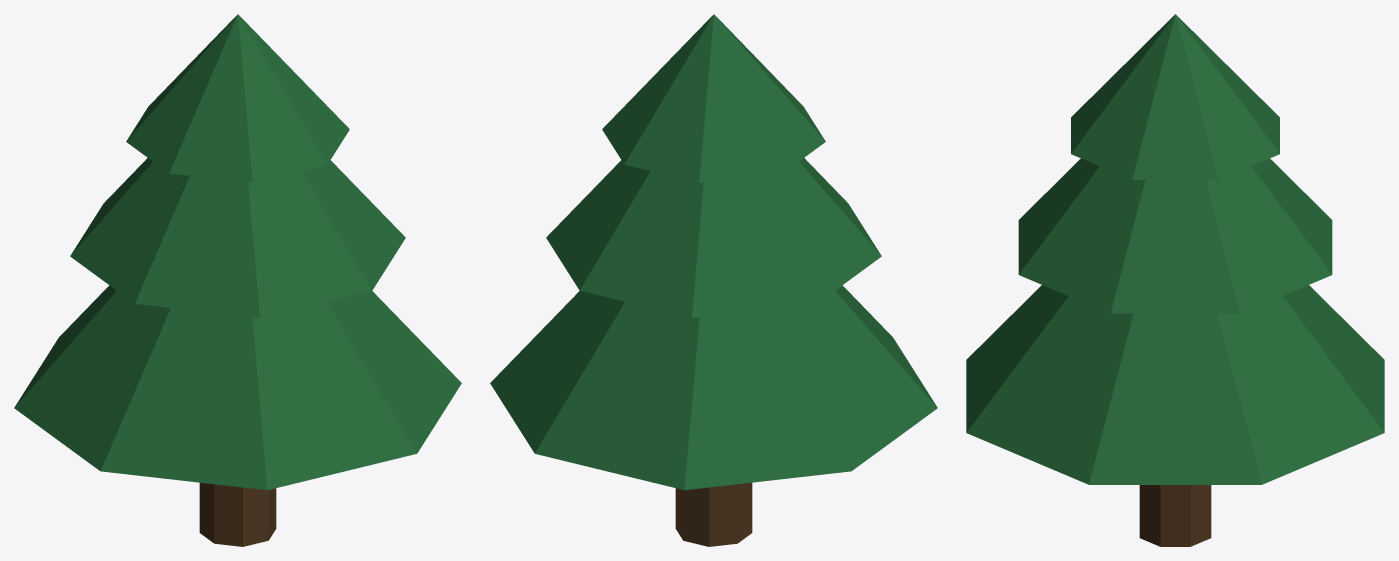
File: tree.glb
3 views of the same model, side by side, from view 1: azimuth 30°, elevation 25°; view 2: azimuth 150°, elevation 25°; view 3: azimuth 270°, elevation 25° (orthographic).
Parts seen in each view (by area): view 1: low, middle, high, trunk; view 2: low, middle, high, trunk; view 3: low, middle, high, trunk.
Boxes of the visible parts, x1=… form: low: x1=14, y1=285, x2=461, y2=490; middle: x1=70, y1=158, x2=405, y2=317; high: x1=126, y1=14, x2=349, y2=182; trunk: x1=199, y1=482, x2=276, y2=546; low: x1=490, y1=285, x2=937, y2=490; middle: x1=546, y1=158, x2=881, y2=317; high: x1=602, y1=14, x2=825, y2=182; trunk: x1=675, y1=482, x2=752, y2=546; low: x1=966, y1=285, x2=1384, y2=484; middle: x1=1018, y1=158, x2=1332, y2=313; high: x1=1071, y1=14, x2=1279, y2=179; trunk: x1=1139, y1=485, x2=1211, y2=546.
Bounding box in the file's own units: 1.4 × 1.91 × 1.4.
